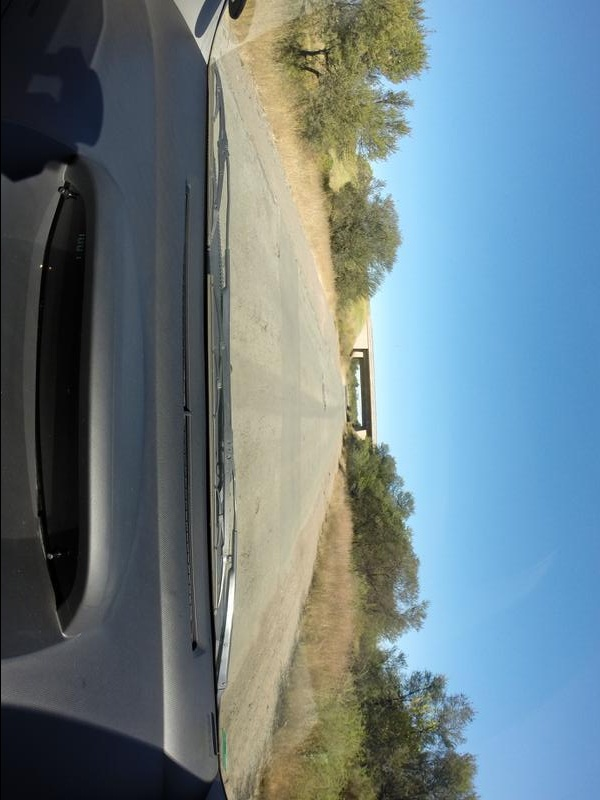pothole: (317, 373, 331, 416), (272, 239, 283, 260), (252, 496, 262, 518), (259, 318, 270, 336)
